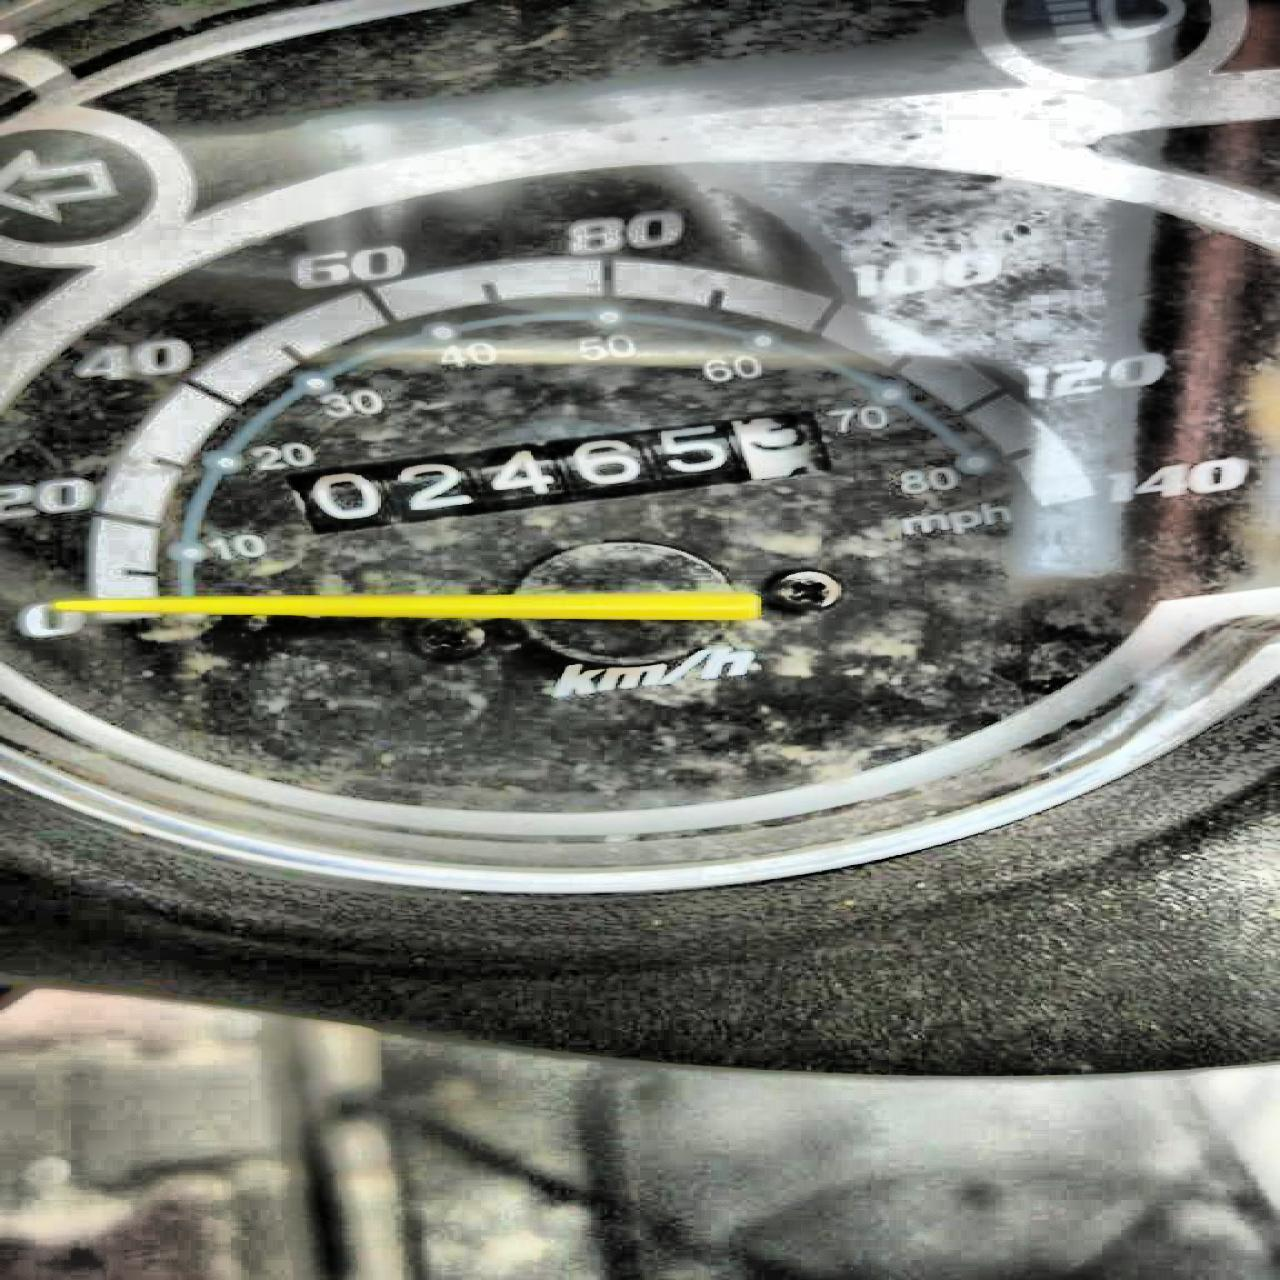0: (305, 472, 382, 523), (280, 442, 318, 468), (352, 388, 384, 417)
2: (389, 463, 471, 517), (251, 443, 285, 475)
3: (734, 408, 806, 454), (320, 390, 347, 418)
4: (481, 447, 558, 497)
5: (653, 422, 727, 477)
6: (566, 435, 645, 490)
7: (824, 406, 853, 431)
odometer: (258, 392, 853, 538)
